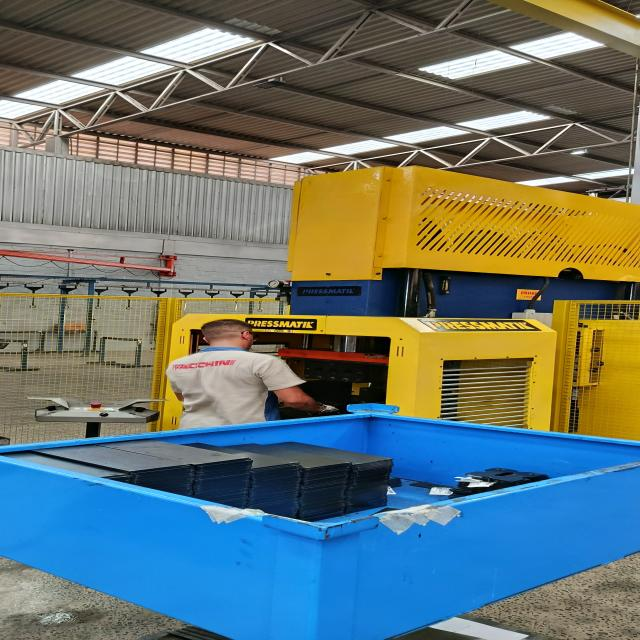oculos-epi: (239, 331, 258, 340)
